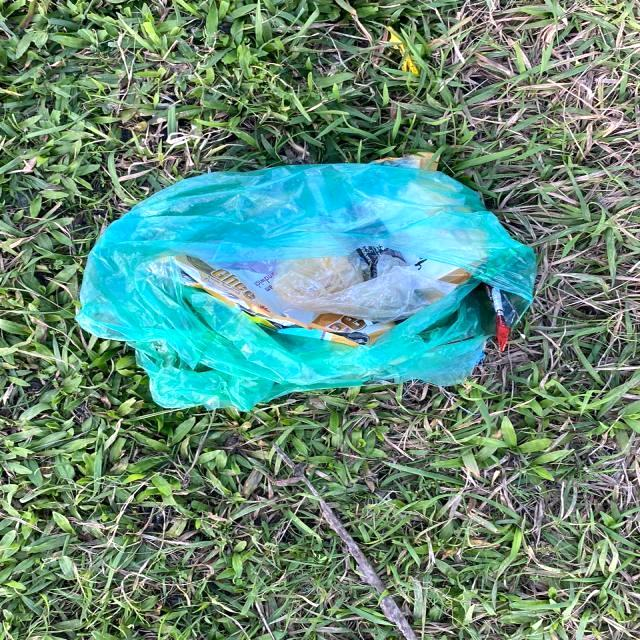polythene: (69, 158, 472, 414)
